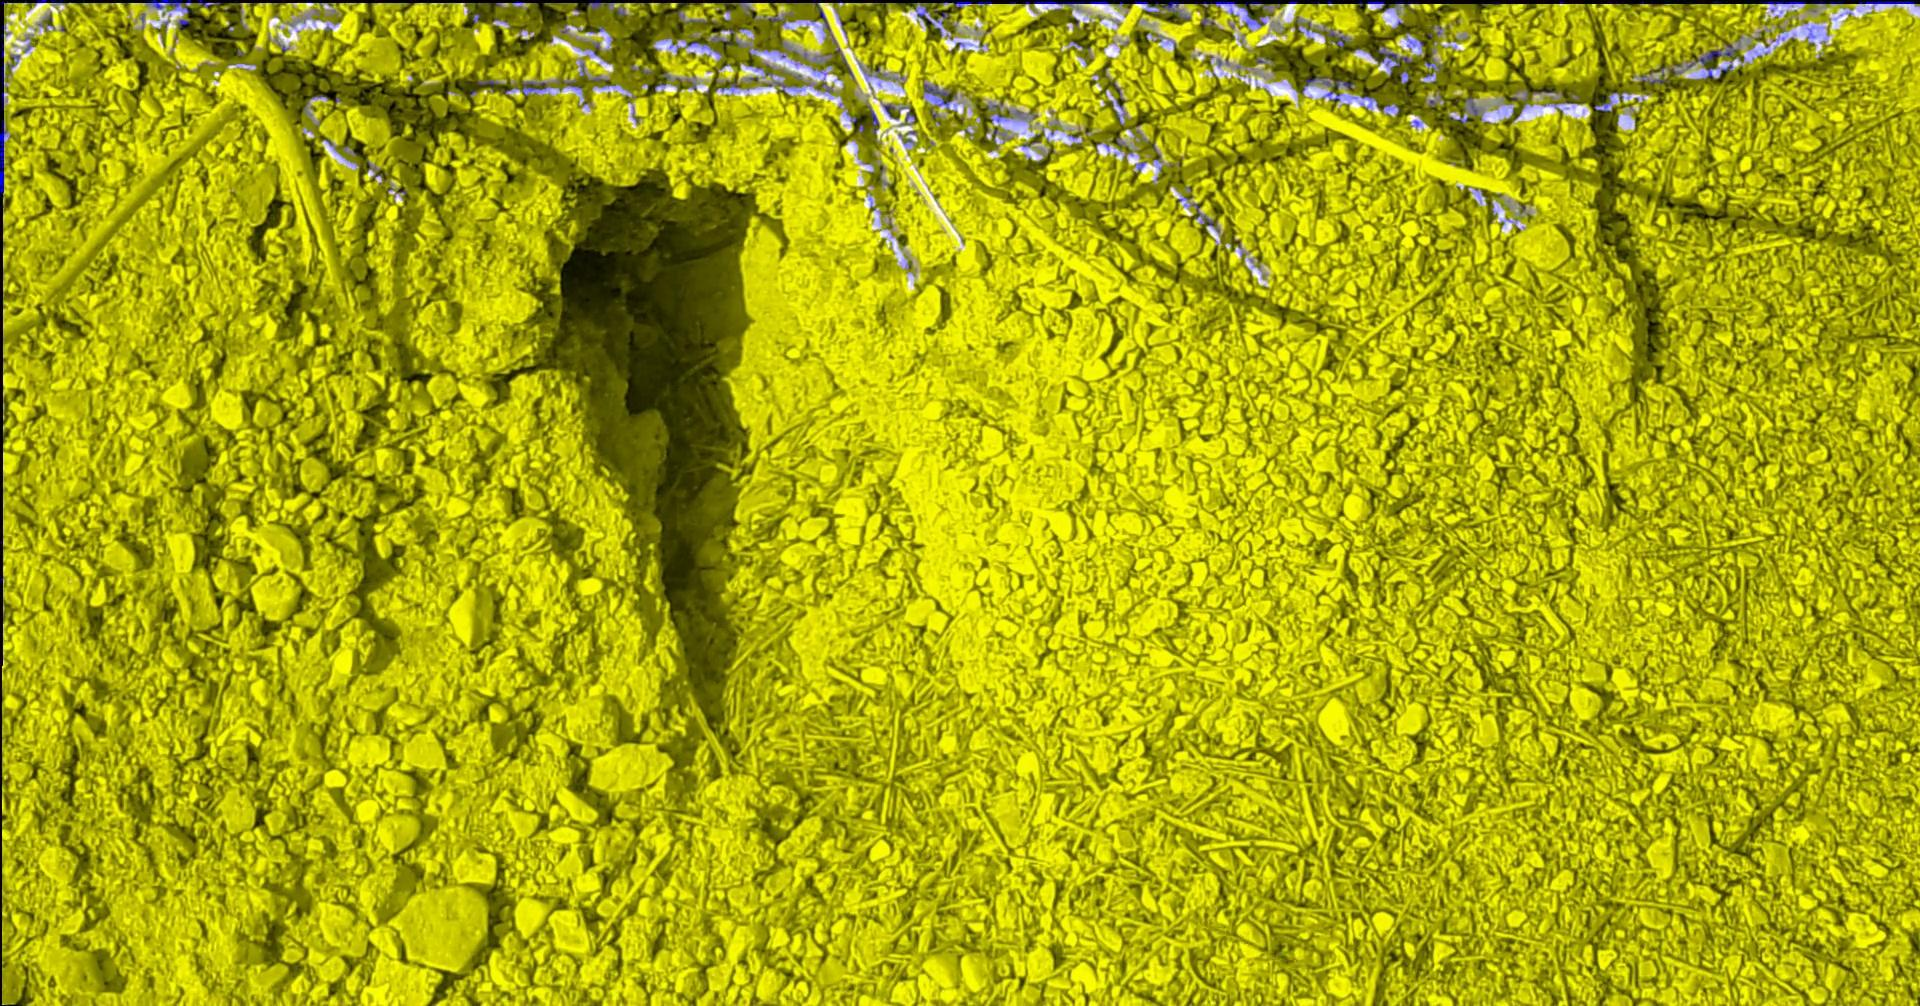ant: (0, 25, 18, 85), (1695, 43, 1737, 64), (1377, 44, 1411, 66), (923, 84, 955, 105), (1237, 0, 1263, 25), (145, 0, 190, 13), (917, 8, 949, 23), (0, 119, 6, 196), (943, 0, 992, 8), (1356, 0, 1388, 10), (1327, 30, 1346, 47), (521, 83, 545, 95), (1161, 0, 1183, 13), (1203, 0, 1236, 8), (1389, 0, 1418, 8), (1023, 0, 1109, 3), (869, 109, 877, 133), (198, 0, 221, 8), (1760, 0, 1804, 4), (1857, 0, 1915, 3), (1810, 0, 1843, 3)
